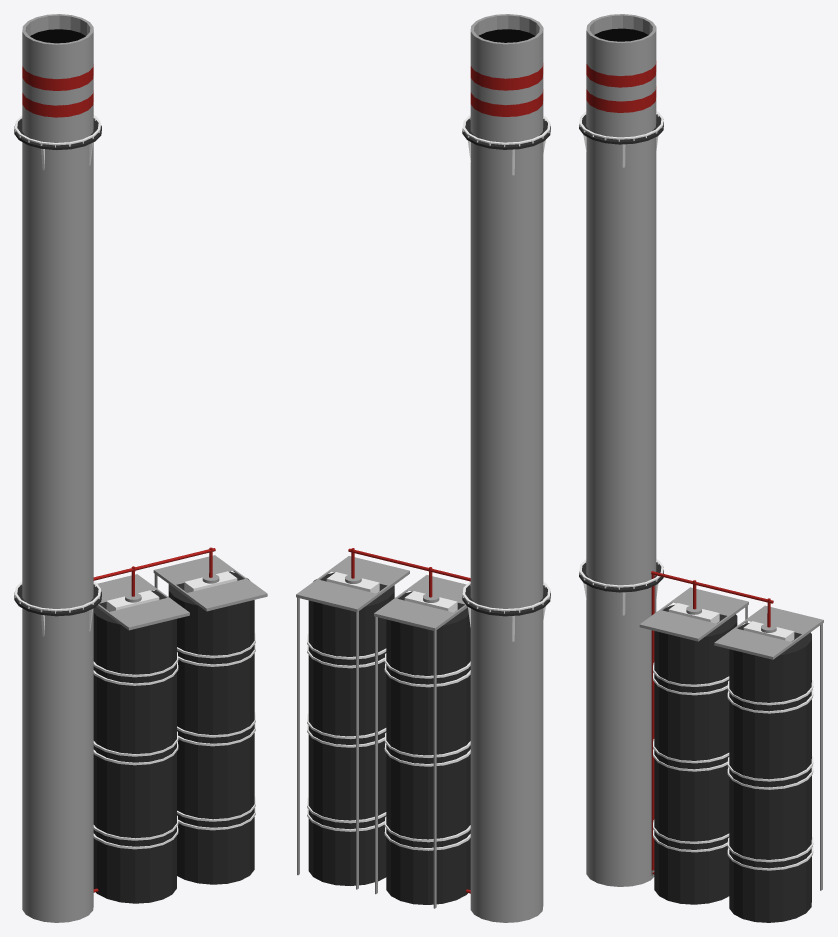
The model's file is Gas Plant 2.FBX.
The picture shows the model from 3 angles, left to right: view 1: azimuth 30°, elevation 25°; view 2: azimuth 150°, elevation 25°; view 3: azimuth 330°, elevation 25°; orthographic projection. The views are drawn at different scales.
Visible parts, largest first — view 1: Cylinder015; view 2: Cylinder015; view 3: Cylinder015.
Boxes of the visible parts, x1,y1,x2,y2 form: Cylinder015: (14,14,267,922); Cylinder015: (296,14,550,922); Cylinder015: (579,14,823,922).
Size of the model in its own units: 23.17 by 84.07 by 9.16.
